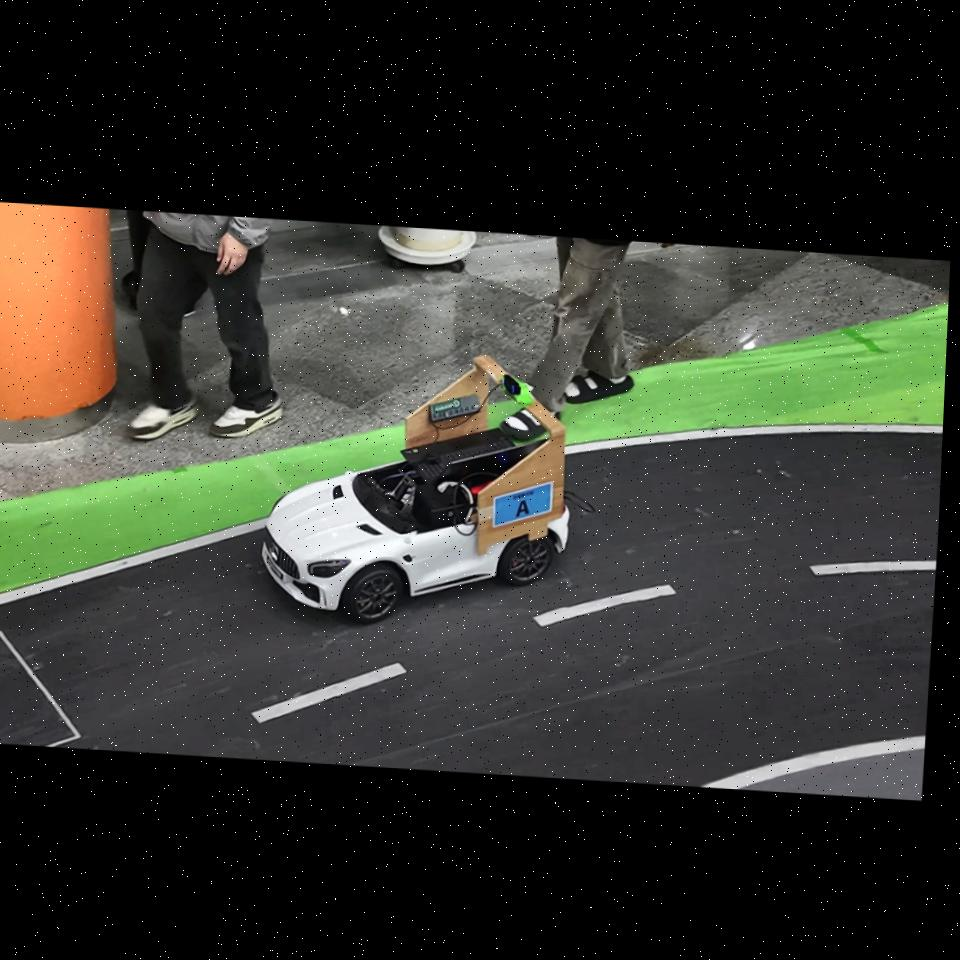broken_line: (251, 664, 406, 722), (534, 585, 677, 627), (809, 560, 936, 576)
